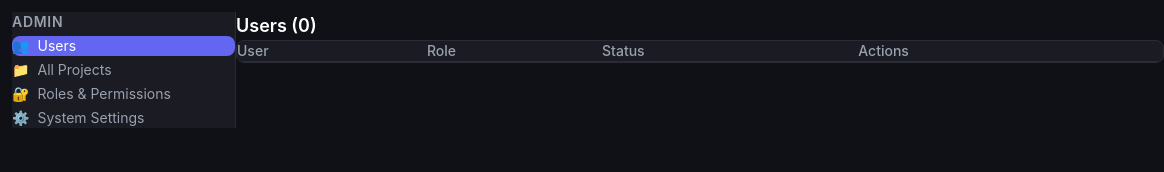
Test: AdminPage › shows projects table with names and status badges
Click the button "📁 All Projects" at {"x": 124, "y": 70}, box [12,60,235,80]
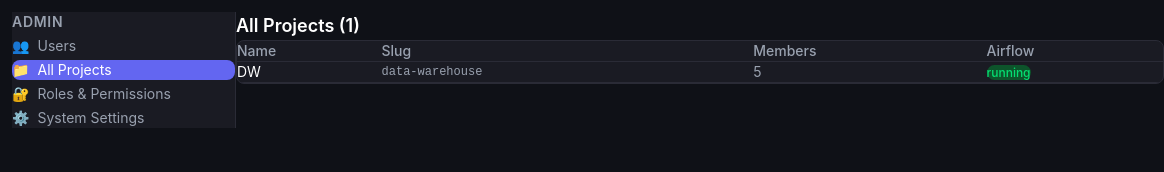
Now the text "DW" is shown, box [237,62,382,82]
Now the text "data-warehouse" is shown, box [382,62,753,82]
Now the text "5" is shown, box [753,62,987,82]
